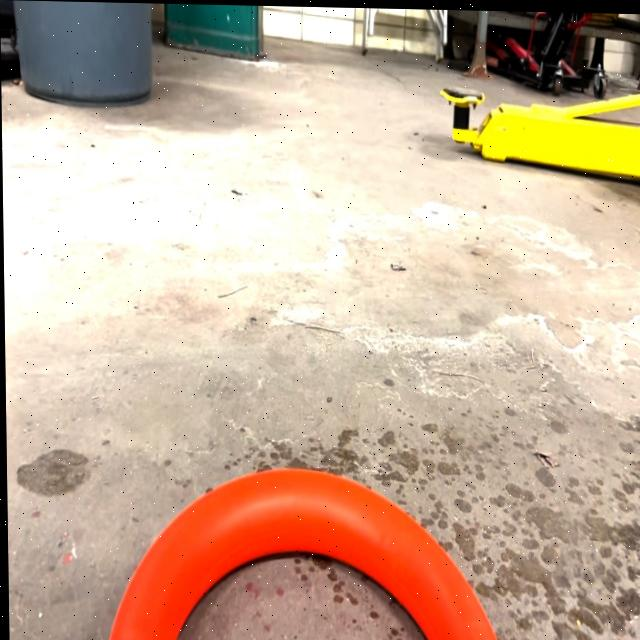note: (104, 461, 502, 640)
